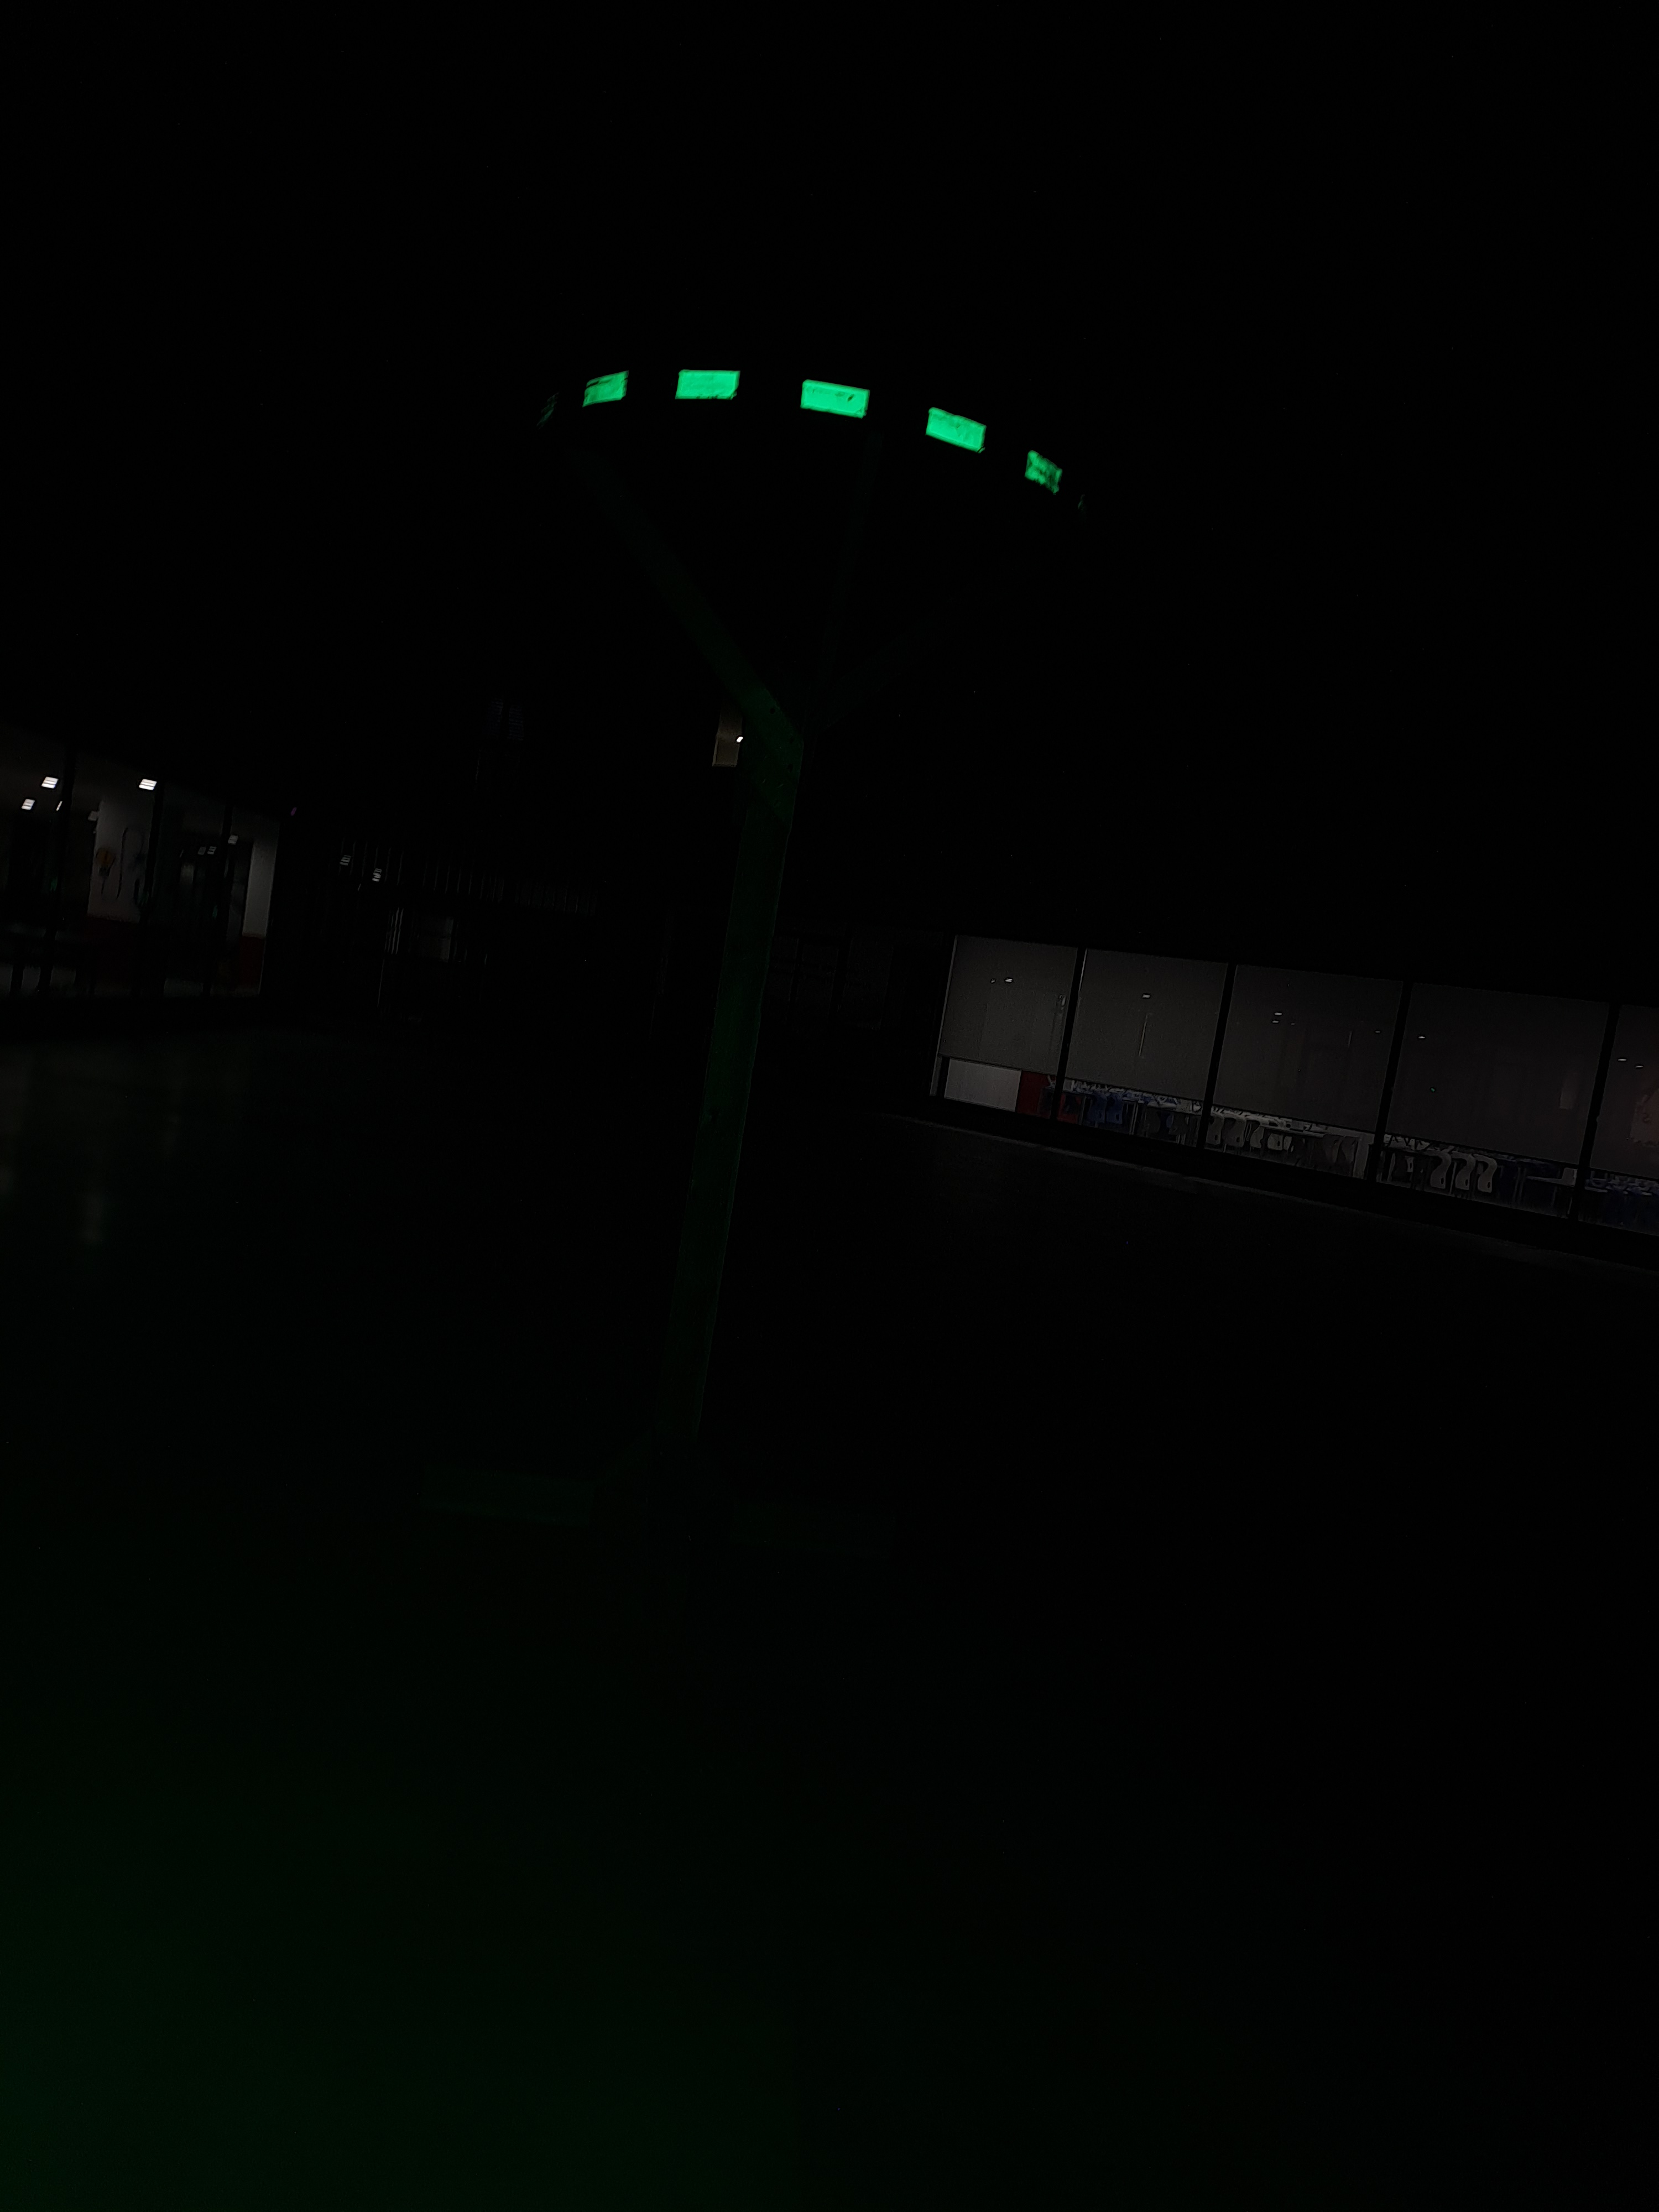hoop: (582, 355, 1070, 498)
